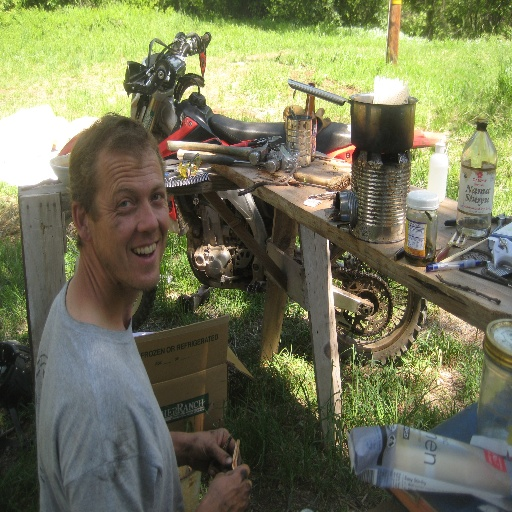hand: (162, 412, 241, 492), (203, 459, 254, 511)
